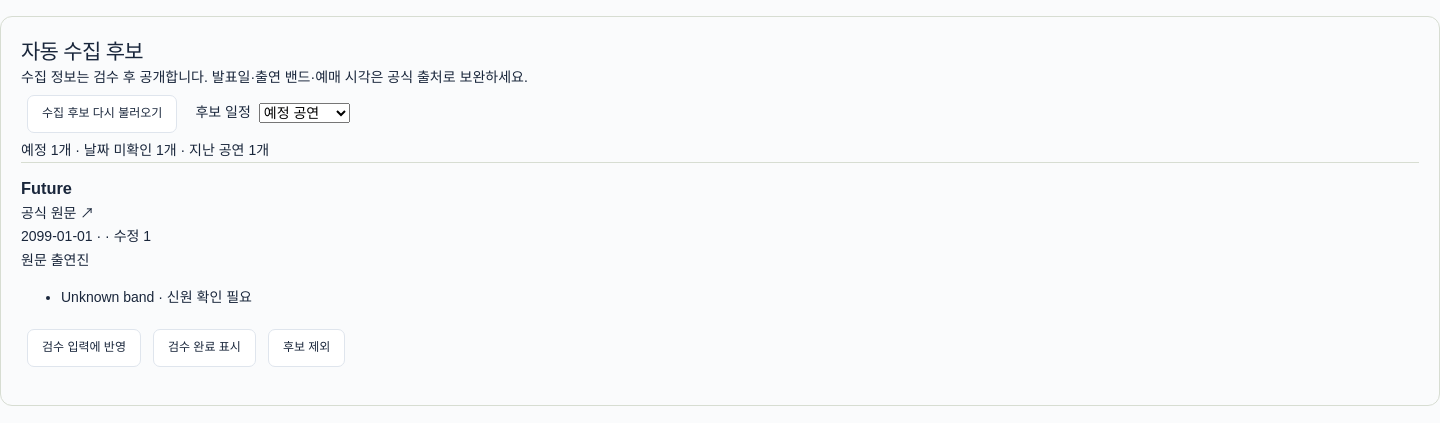
Test: review starts with upcoming dates and preserves unknown artist names in separate date groups
The image size is (1440, 423).
Expected: the heading "Future" is shown, [21,179,72,197]
Expected: the list item "Unknown band · 신원 확인 필요" is shown, [61,289,252,305]
Select "날짜 미확인" in the dropdown labelled "후보 일정" at x=304, y=113, box [259,103,350,123]
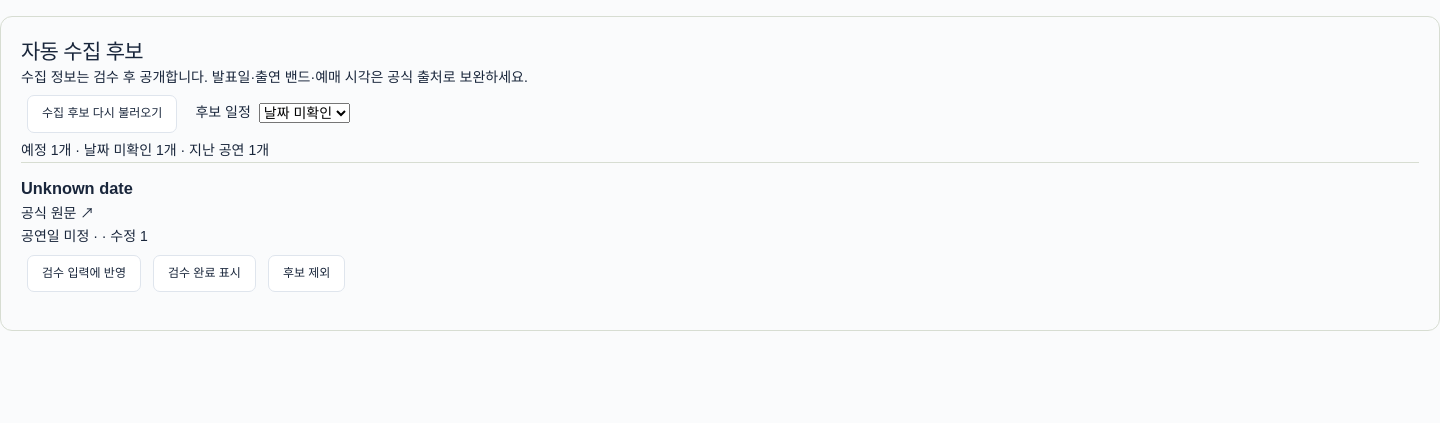
Result: the heading "Unknown date" is shown at [21,179,133,197]
Select "지난 공연" in the dropdown labelled "후보 일정" at x=304, y=113, box [259,103,350,123]
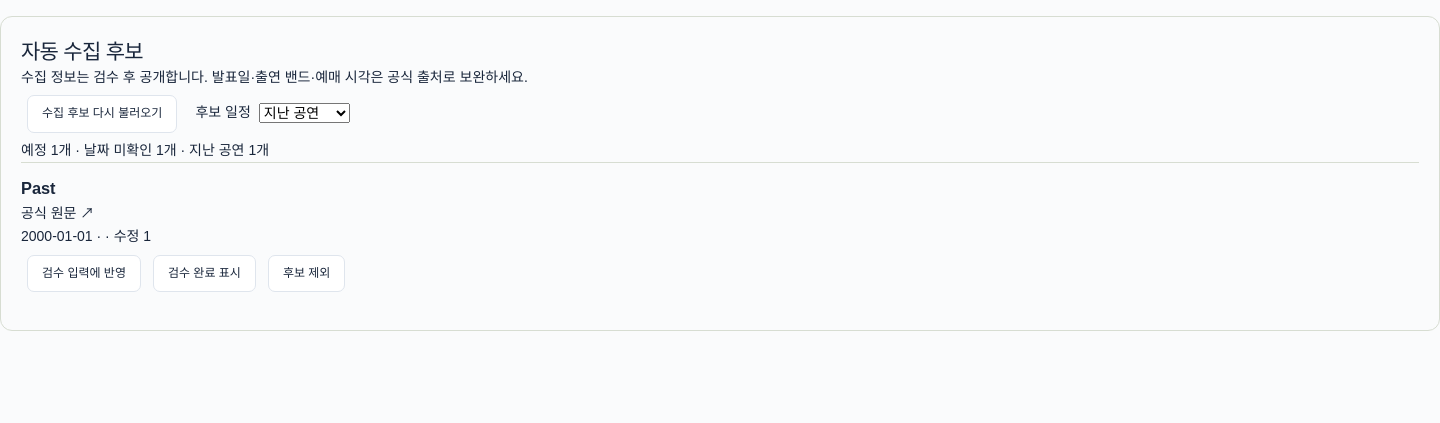
Result: the heading "Past" is shown at [21,179,56,197]
